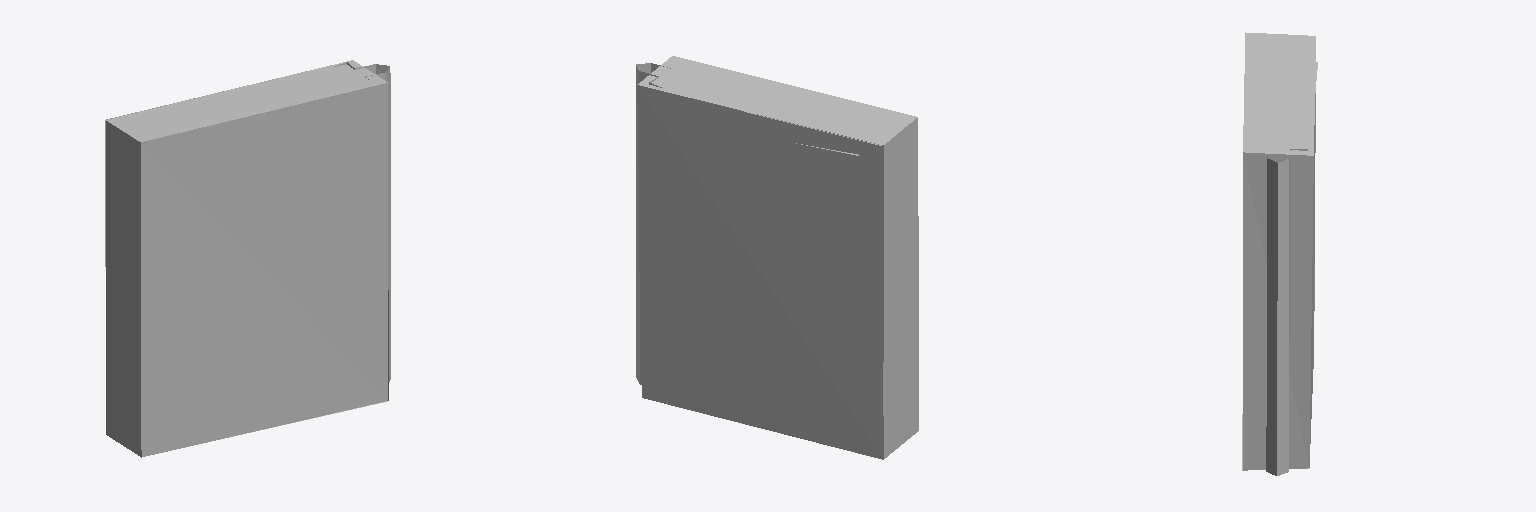
File: ContainmentGateDoorRight.obj
The picture shows the model from 3 angles: view 1: azimuth 30°, elevation 25°; view 2: azimuth 150°, elevation 25°; view 3: azimuth 270°, elevation 25°; orthographic projection.
Parts seen in each view (by area): view 1: 37uuzgmwo2wm; view 2: 37uuzgmwo2wm; view 3: 37uuzgmwo2wm.
Part boxes in pixels (x1,y1,x2,y2): 37uuzgmwo2wm: (105, 60, 390, 457); 37uuzgmwo2wm: (636, 56, 918, 459); 37uuzgmwo2wm: (1242, 32, 1317, 475).
Bounding box in the file's own units: 2.04 × 2.32 × 0.5053.